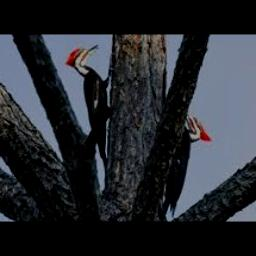Woodpecker: (67, 45, 114, 168), (163, 105, 212, 217)
